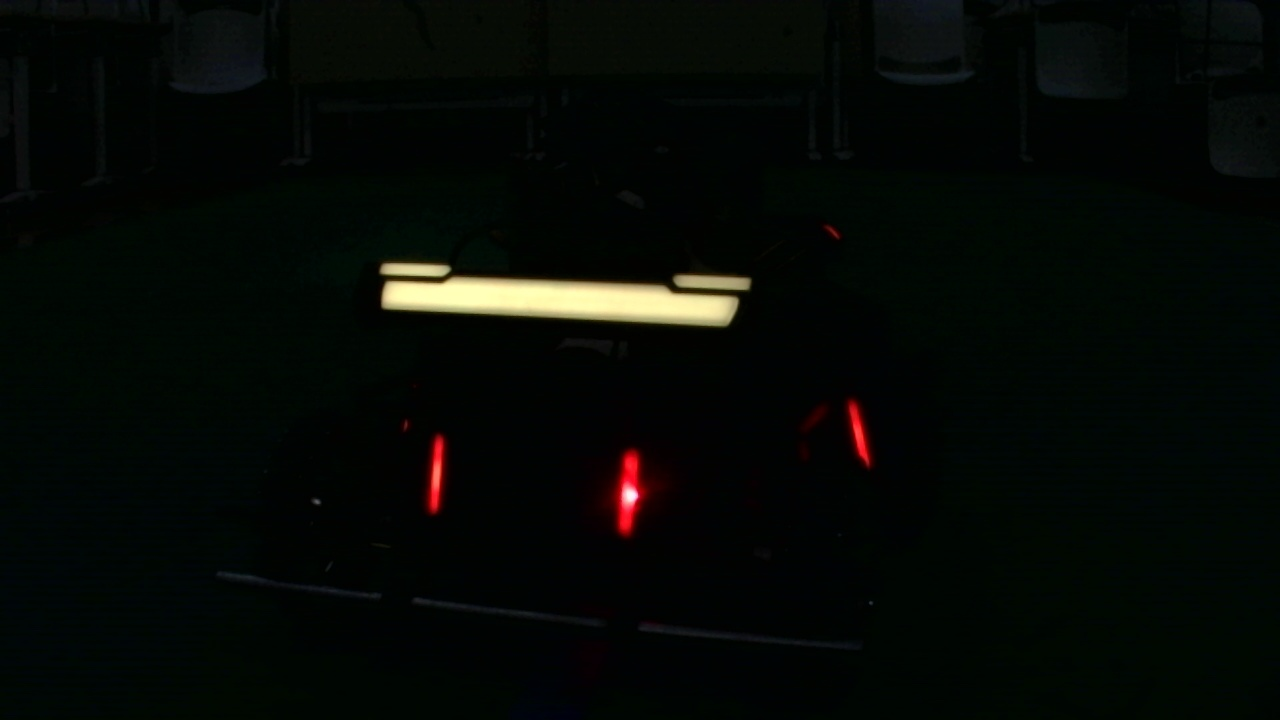lamp: (843, 391, 872, 467), (616, 441, 638, 537)
notpair1: (613, 397, 874, 541)
pair1: (428, 434, 640, 543)
